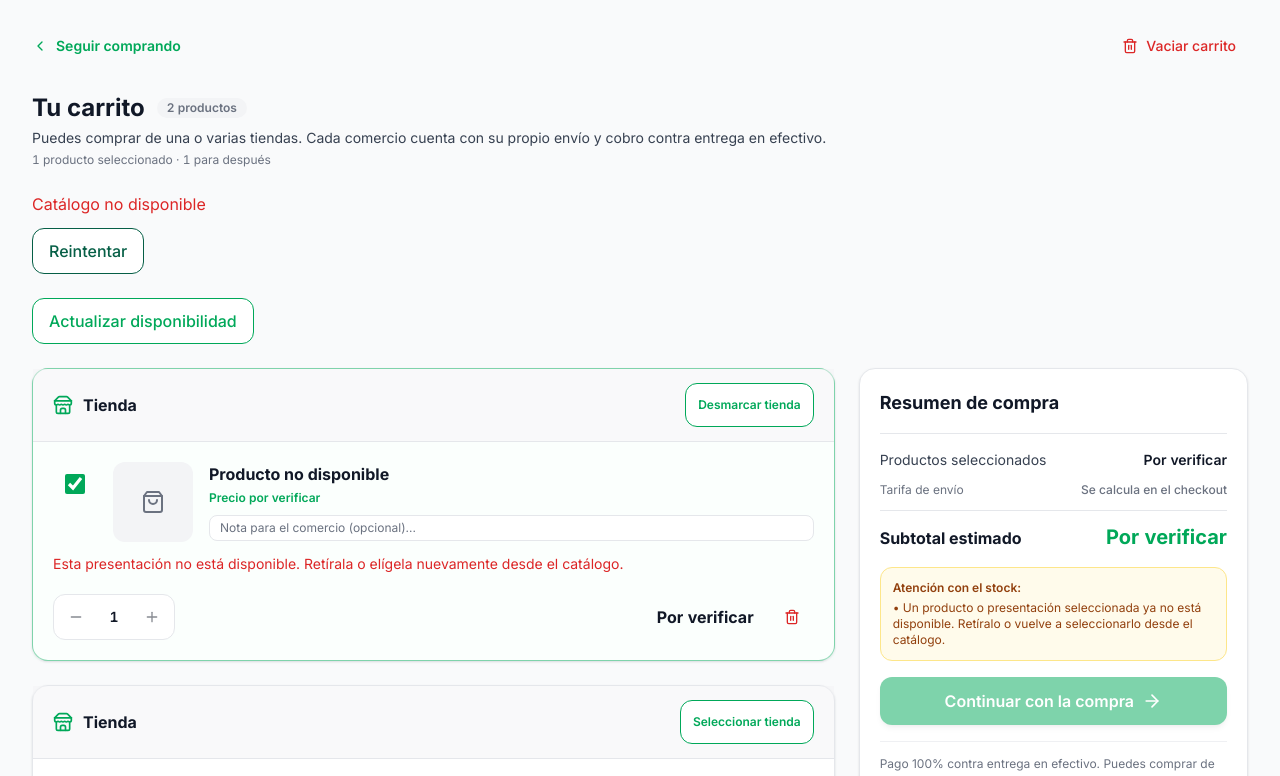
Test: un fallo de red bloquea la continuación, no reintenta en bucle y permite revalidar
Check: the text "Catálogo no disponible" is shown, box [32,194,206,214]
Check: the button "Continuar con la compra" is disabled, box [880,677,1227,725]
Click the button "Reintentar" at (88, 251), box [32,228,144,274]
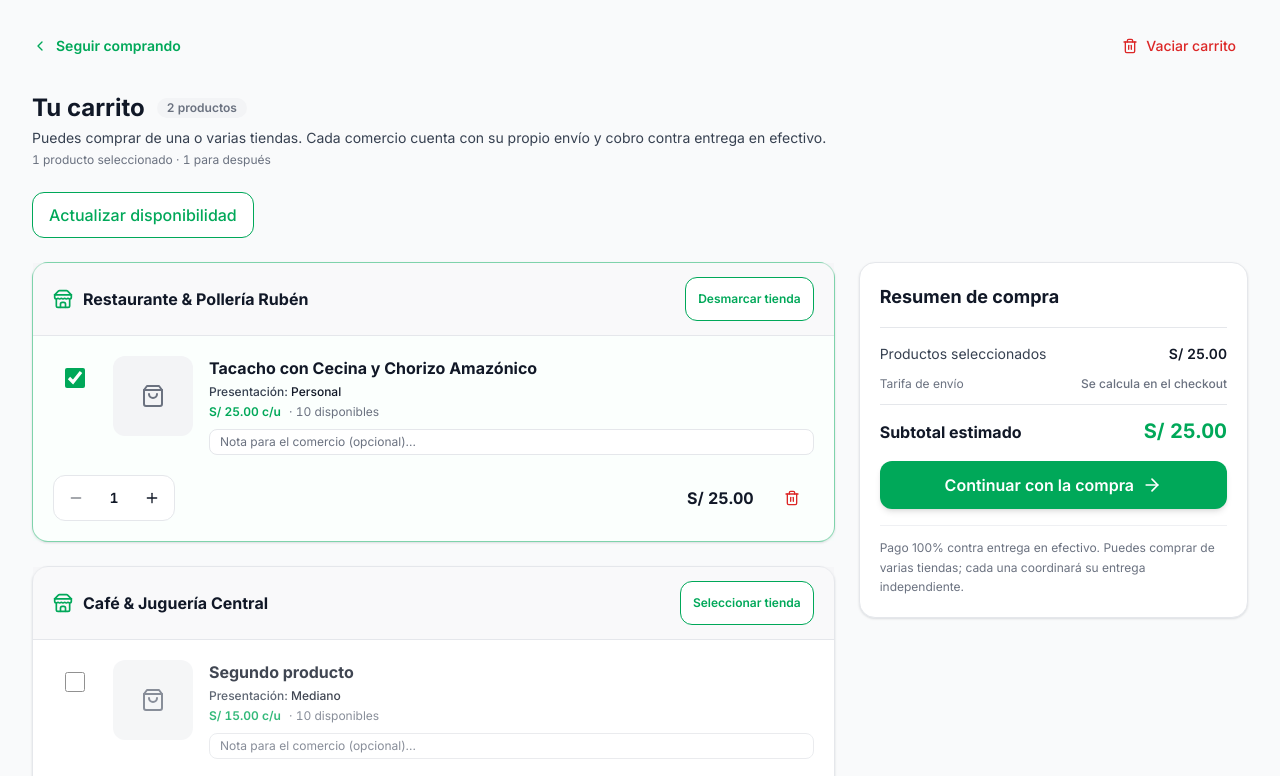
Check: the link "Tacacho con Cecina y Chorizo Amazónico" is shown, box [209,358,537,378]
Check: the button "Continuar con la compra" is enabled, box [880,461,1227,509]
